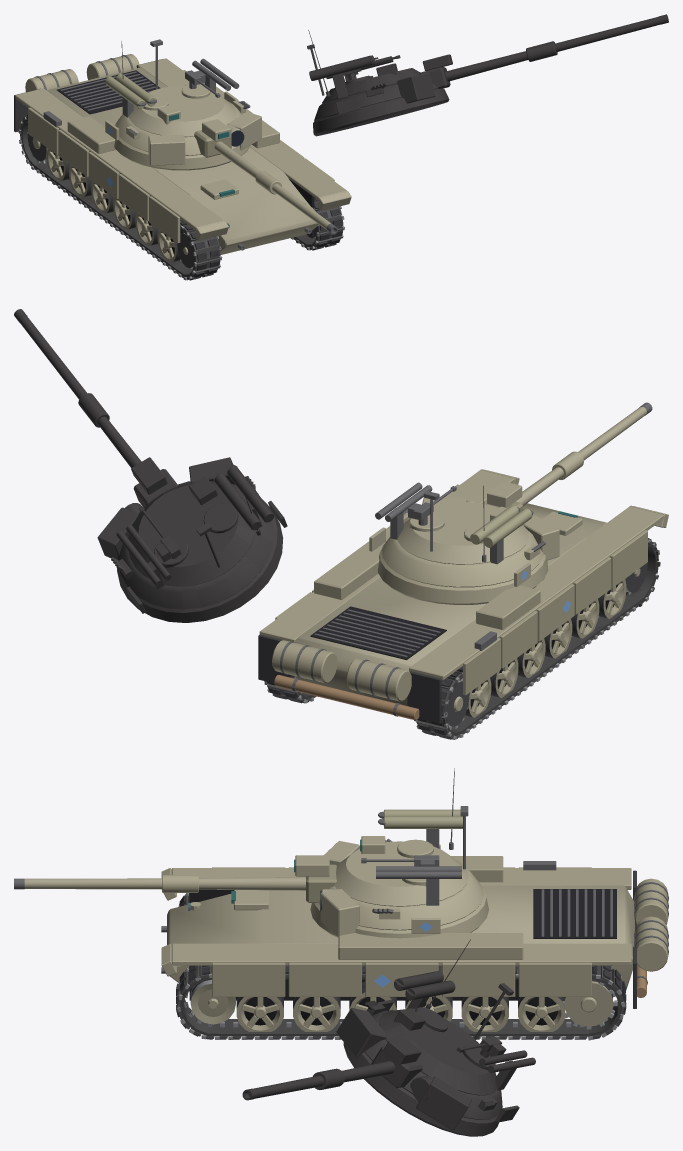
Rendered from tank__chonma_216.glb.
The picture shows the model from 3 angles, top to bottom: view 1: azimuth 30°, elevation 25°; view 2: azimuth 150°, elevation 25°; view 3: azimuth 270°, elevation 25°; orthographic projection. The views are drawn at different scales.
Visible parts, largest first — view 1: Hull_Mesh, Wreck, Turret_Mesh, Track_L_Mesh, Gun_Mesh, Track_R_Mesh, Wheel_L1_Mesh, Wheel_L3_Mesh, Wheel_L4_Mesh, Wheel_L0_Mesh, Wheel_L2_Mesh, Wheel_L5_Mesh (+1 smaller); view 2: Hull_Mesh, Wreck, Turret_Mesh, Track_L_Mesh, Gun_Mesh, Wheel_L2_Mesh, Wheel_L4_Mesh, Wheel_L1_Mesh, Wheel_L5_Mesh, Sprocket_L_Mesh, Wheel_L3_Mesh, Wheel_L0_Mesh; view 3: Hull_Mesh, Wreck, Turret_Mesh, Track_R_Mesh, Gun_Mesh, Sprocket_R_Mesh, Wheel_R4_Mesh, Wheel_R5_Mesh, Wheel_R0_Mesh, Wheel_R1_Mesh, Idler_R_Mesh, Hatch_Commander_Mesh.
Part boxes in pixels (left/top/right/bottom): Hull_Mesh: left=14, top=54, right=351, bottom=254; Wreck: left=19, top=14, right=668, bottom=280; Turret_Mesh: left=105, top=39, right=261, bottom=170; Track_L_Mesh: left=18, top=115, right=222, bottom=280; Gun_Mesh: left=194, top=119, right=337, bottom=234; Track_R_Mesh: left=290, top=198, right=344, bottom=250; Wheel_L1_Mesh: left=69, top=164, right=91, bottom=197; Wheel_L3_Mesh: left=113, top=197, right=136, bottom=229; Wheel_L4_Mesh: left=135, top=213, right=158, bottom=245; Wheel_L0_Mesh: left=46, top=148, right=69, bottom=180; Wheel_L2_Mesh: left=91, top=181, right=114, bottom=213; Wheel_L5_Mesh: left=157, top=229, right=183, bottom=262; Hull_Mesh: left=258, top=469, right=668, bottom=723; Wreck: left=14, top=309, right=660, bottom=738; Turret_Mesh: left=369, top=482, right=559, bottom=604; Track_L_Mesh: left=414, top=538, right=660, bottom=739; Gun_Mesh: left=482, top=402, right=652, bottom=512; Wheel_L2_Mesh: left=517, top=638, right=545, bottom=678; Wheel_L4_Mesh: left=571, top=599, right=599, bottom=638; Wheel_L1_Mesh: left=490, top=658, right=518, bottom=697; Wheel_L5_Mesh: left=598, top=579, right=626, bottom=618; Sprocket_L_Mesh: left=447, top=678, right=469, bottom=730; Wheel_L3_Mesh: left=544, top=619, right=572, bottom=658; Wheel_L0_Mesh: left=465, top=678, right=491, bottom=717; Hull_Mesh: left=161, top=856, right=668, bottom=1008; Wreck: left=176, top=896, right=625, bottom=1136; Turret_Mesh: left=310, top=806, right=488, bottom=938; Track_R_Mesh: left=176, top=965, right=626, bottom=1040; Gun_Mesh: left=14, top=855, right=336, bottom=902; Sprocket_R_Mesh: left=562, top=979, right=616, bottom=1029; Wheel_R4_Mesh: left=293, top=997, right=340, bottom=1031; Wheel_R5_Mesh: left=236, top=997, right=283, bottom=1031; Wheel_R0_Mesh: left=518, top=997, right=565, bottom=1031; Wheel_R1_Mesh: left=461, top=997, right=508, bottom=1031; Idler_R_Mesh: left=190, top=979, right=235, bottom=1024; Hatch_Commander_Mesh: left=397, top=839, right=433, bottom=858.
Size of what is drawn, in the model's own units: 11.22 by 3.39 by 9.92.
